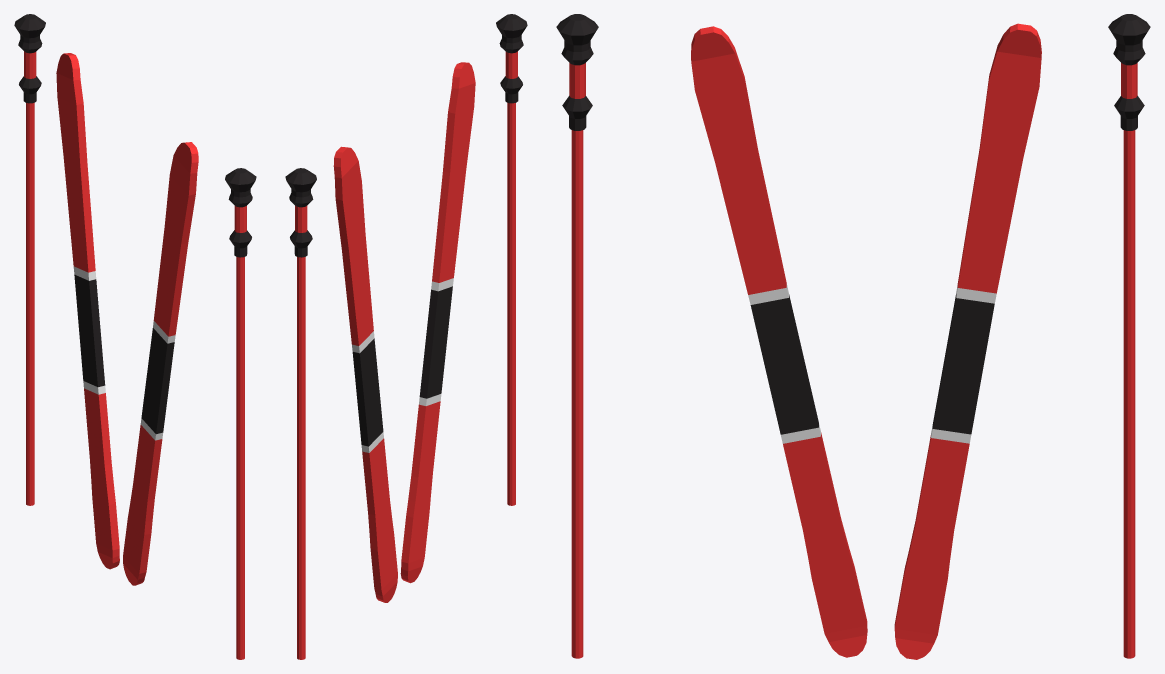
File: SkiSetRED.fbx
3 renders of one model, left to right at view 1: azimuth 30°, elevation 25°; view 2: azimuth 150°, elevation 25°; view 3: azimuth 270°, elevation 25°, orthographic. The views are drawn at different scales.
Parts seen in each view (by area): view 1: Cylinder.001; view 2: Cylinder.001; view 3: Cylinder.001.
Part boxes in pixels (x1,y1,x2,y2): Cylinder.001: (14,14,256,659); Cylinder.001: (285,14,527,659); Cylinder.001: (556,14,1150,659).
Size of the model in its own units: 28.23 by 494 by 414.
